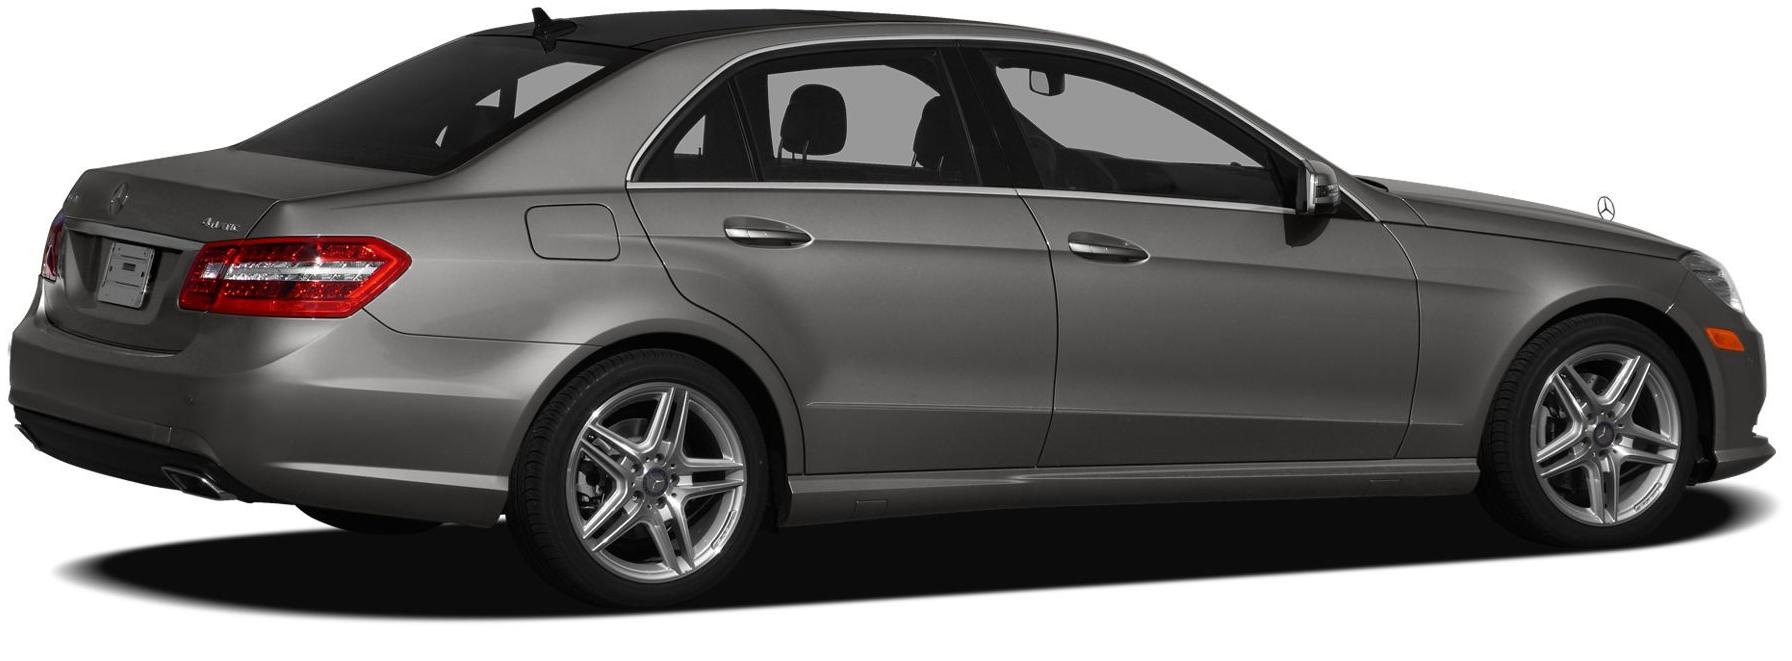back_view: (11, 175, 433, 571)
backlight: (158, 218, 481, 352)
side_glass: (683, 38, 1400, 214)
